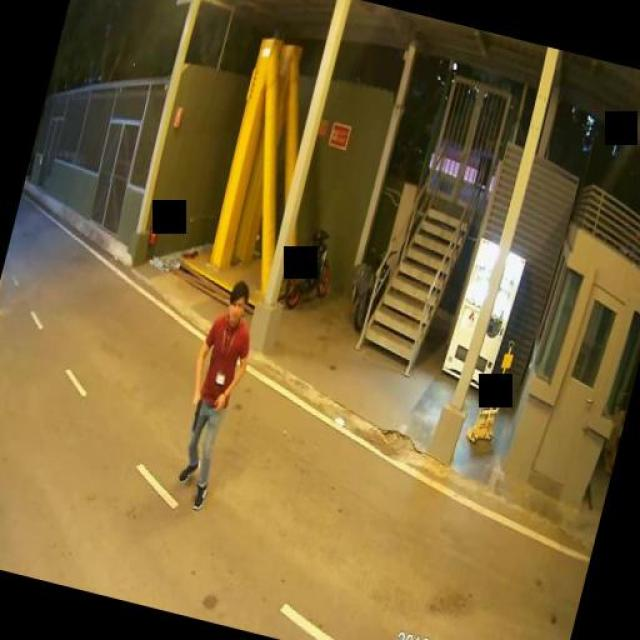gun: (185, 393, 204, 432)
